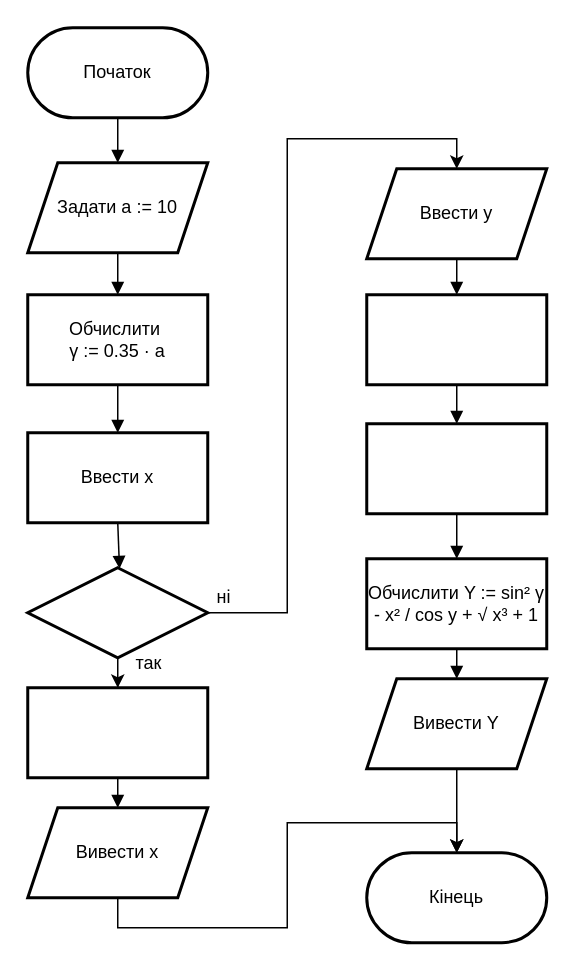
The diagram is 573 pixels wide and 969 high, and some of its shapes have lost their labels. Here are the shapes that lost their labels. From the top down, the centre of each, then its label:
At point (456, 339): "Обчислити чисельник: sin² γ - x²".
At point (456, 468): "Обчислити знаменник: cos y + √ x³ + 1".
At point (117, 612): "x ≤ 0?".
At point (117, 732): "Обчислити x := γ² + a²".
